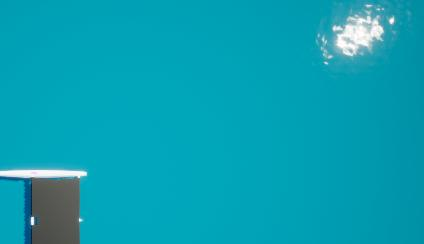boat: (0, 168, 93, 244)
drone: (32, 179, 78, 244)
land_base: (312, 1, 418, 72)
